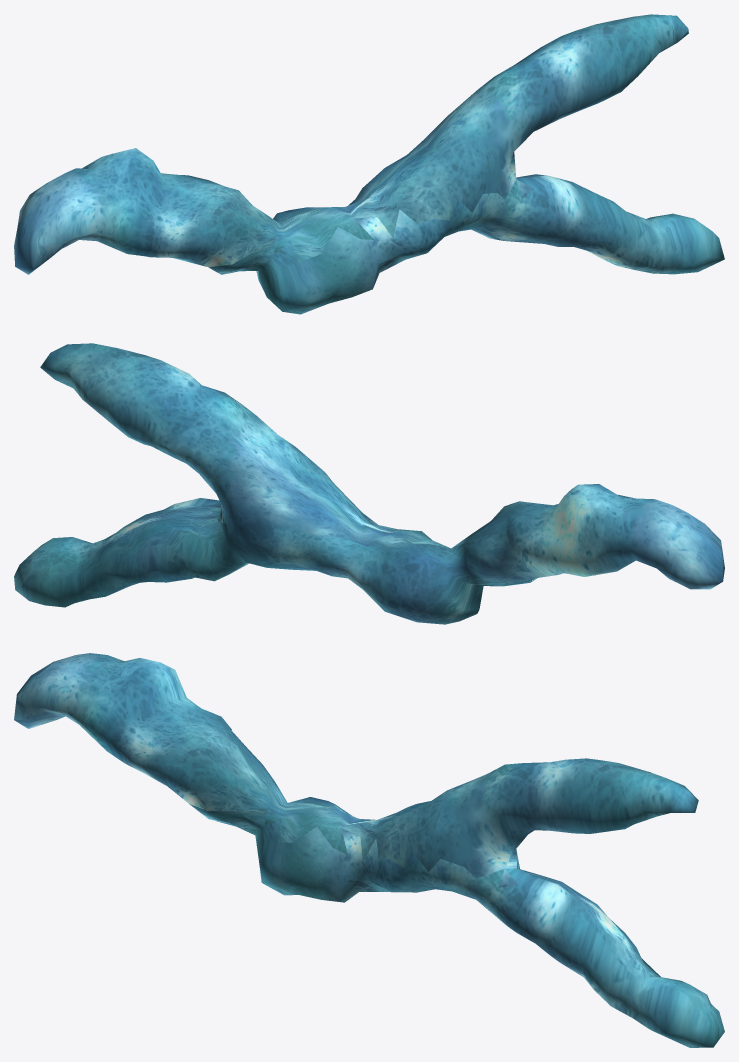
3 renders of one model, top to bottom at view 1: azimuth 30°, elevation 25°; view 2: azimuth 150°, elevation 25°; view 3: azimuth 330°, elevation 25°, orthographic.
Parts seen in each view (by area): view 1: obj3; view 2: obj3; view 3: obj3.
Part boxes in pixels (box(x1,y1,x2,y2)): obj3: box(14, 14, 724, 314); obj3: box(14, 343, 724, 624); obj3: box(14, 653, 724, 1047).
Bounding box in the file's own units: 599 × 215 × 78.1.
1 material, 1 textured.
